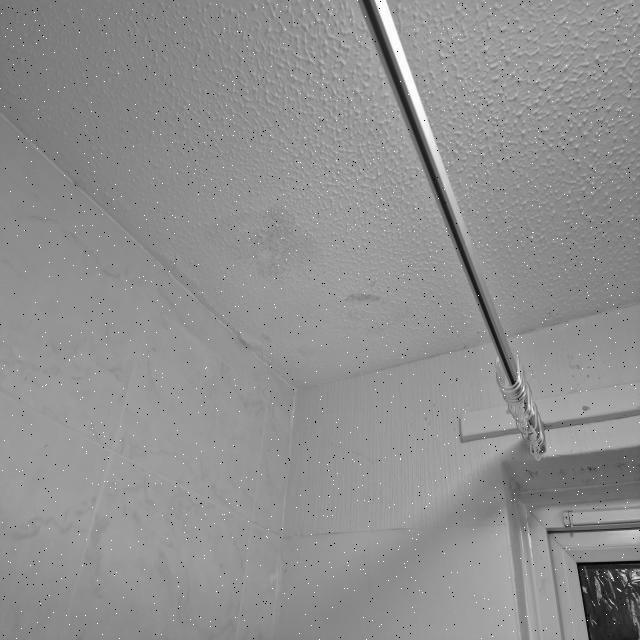stain marks: (214, 206, 320, 289), (332, 280, 402, 324), (256, 328, 318, 363)
